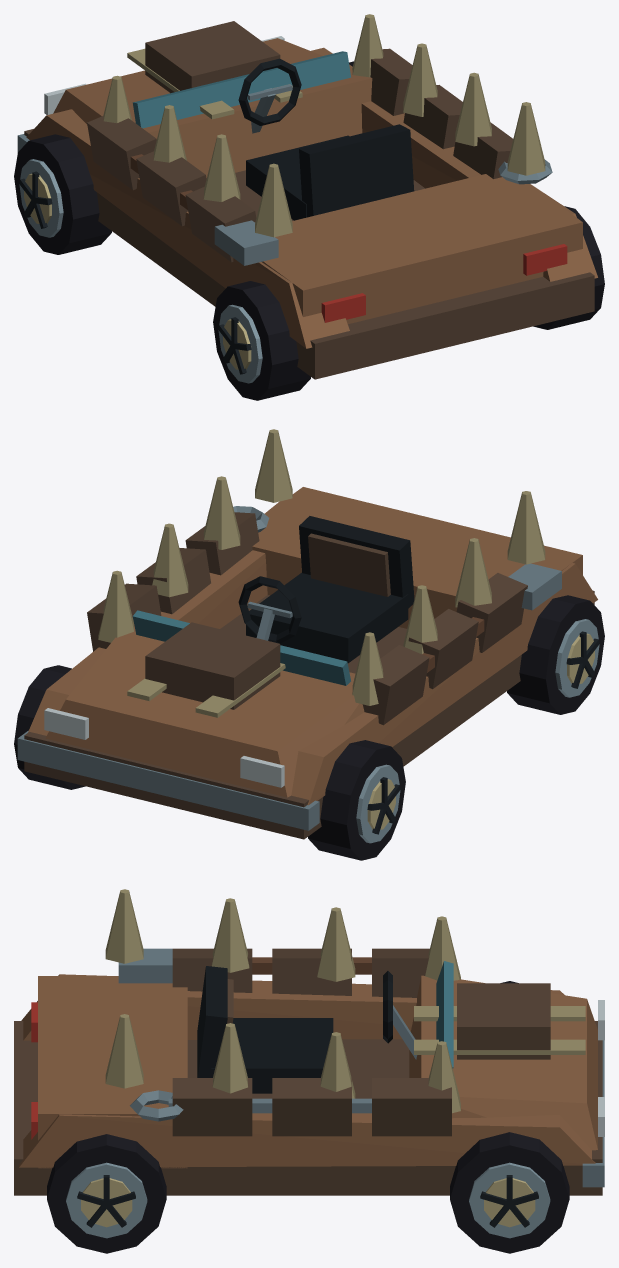
Rendered from kart.glb.
The picture shows the model from 3 angles, top to bottom: view 1: azimuth 30°, elevation 25°; view 2: azimuth 150°, elevation 25°; view 3: azimuth 270°, elevation 25°; orthographic projection.
Visible parts, largest first — view 1: identity-muscle-car-muscle-car-road-car-body, identity-muscle-car-motif-armor, identity-muscle-car-driver-cockpit, identity-muscle-car-motif-spines, wheel-front-left, wheel-rear-left, identity-muscle-car-motif-tools, wheel-rear-right; view 2: identity-muscle-car-muscle-car-road-car-body, identity-muscle-car-driver-cockpit, identity-muscle-car-motif-armor, identity-muscle-car-motif-spines, wheel-front-left, wheel-rear-left, identity-muscle-car-motif-tools, wheel-front-right; view 3: identity-muscle-car-muscle-car-road-car-body, identity-muscle-car-motif-armor, identity-muscle-car-motif-spines, wheel-front-right, wheel-rear-right, identity-muscle-car-driver-cockpit, identity-muscle-car-motif-tools.
Part boxes in pixels (left/top/right/bottom): identity-muscle-car-muscle-car-road-car-body: left=17, top=21, right=597, bottom=379; identity-muscle-car-motif-armor: left=87, top=48, right=513, bottom=262; identity-muscle-car-driver-cockpit: left=238, top=58, right=414, bottom=220; identity-muscle-car-motif-spines: left=103, top=14, right=545, bottom=237; wheel-front-left: left=14, top=134, right=111, bottom=254; wheel-rear-left: left=213, top=281, right=310, bottom=400; identity-muscle-car-motif-tools: left=130, top=154, right=552, bottom=265; wheel-rear-right: left=533, top=206, right=604, bottom=329; identity-muscle-car-muscle-car-road-car-body: left=17, top=487, right=597, bottom=839; identity-muscle-car-driver-cockpit: left=238, top=516, right=414, bottom=663; identity-muscle-car-motif-armor: left=87, top=512, right=527, bottom=725; identity-muscle-car-motif-spines: left=98, top=429, right=545, bottom=705; wheel-front-left: left=308, top=740, right=405, bottom=860; wheel-rear-left: left=507, top=595, right=604, bottom=714; identity-muscle-car-motif-tools: left=233, top=506, right=561, bottom=672; wheel-front-right: left=14, top=665, right=85, bottom=789; identity-muscle-car-muscle-car-road-car-body: left=14, top=961, right=604, bottom=1195; identity-muscle-car-motif-armor: left=172, top=948, right=451, bottom=1136; identity-muscle-car-motif-spines: left=105, top=889, right=460, bottom=1113; wheel-front-right: left=450, top=1132, right=569, bottom=1253; wheel-rear-right: left=47, top=1134, right=166, bottom=1253; identity-muscle-car-driver-cockpit: left=197, top=966, right=417, bottom=1093; identity-muscle-car-motif-tools: left=118, top=948, right=371, bottom=1121.
Bounding box in the file's own units: 2.07 × 1.21 × 2.96.
